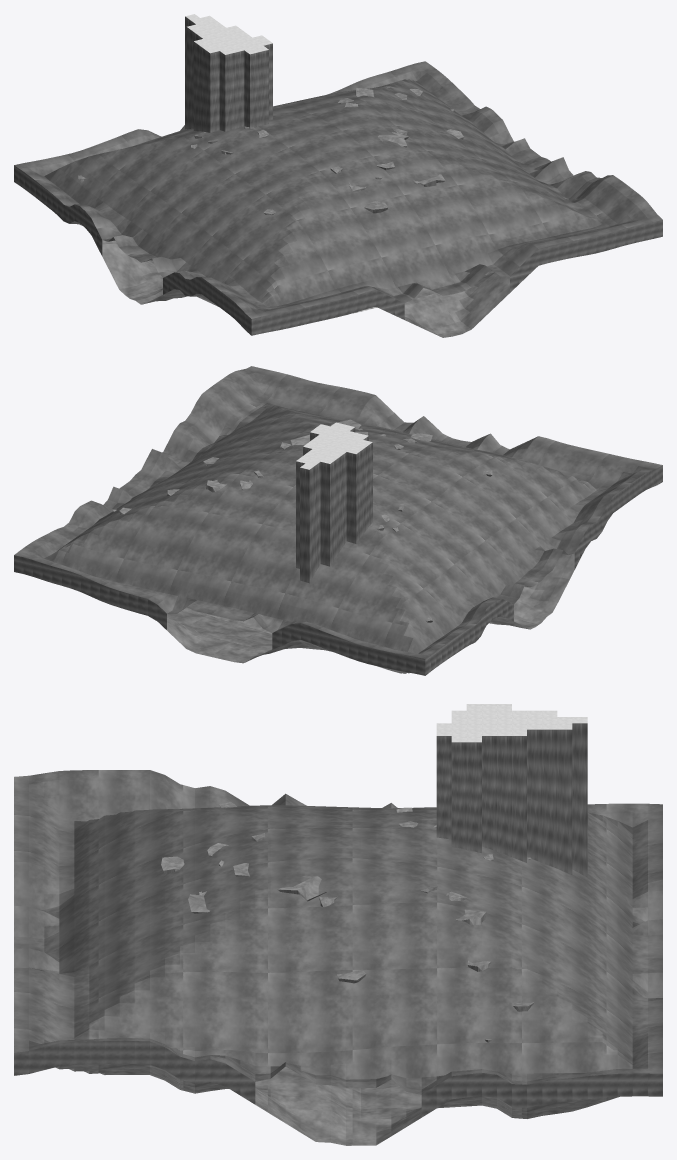
3 views of the same model, one above another, from view 1: azimuth 30°, elevation 25°; view 2: azimuth 150°, elevation 25°; view 3: azimuth 270°, elevation 25° (orthographic). The views are drawn at different scales.
Parts seen in each view (by area): view 1: CavernVault, CavernWalls, CavernShaft, CavernFloor, CavernSkyCap, CavernStalactites, CavernColumns; view 2: CavernVault, CavernWalls, CavernShaft, CavernFloor, CavernSkyCap, CavernStalactites, CavernColumns; view 3: CavernVault, CavernShaft, CavernFloor, CavernWalls, CavernSkyCap, CavernStalactites, CavernColumns.
Part boxes in pixels (x1,y1,x2,y2): CavernVault: (14, 61, 662, 318); CavernWalls: (14, 165, 662, 335); CavernShaft: (185, 16, 272, 132); CavernFloor: (69, 221, 509, 337); CavernSkyCap: (185, 14, 272, 54); CavernStalactites: (78, 89, 463, 215); CavernColumns: (355, 88, 445, 213); CavernVault: (14, 366, 662, 658); CavernWalls: (14, 465, 662, 675); CavernShaft: (296, 427, 372, 583); CavernFloor: (167, 553, 574, 673); CavernSkyCap: (296, 422, 372, 469); CavernStalactites: (113, 428, 492, 622); CavernColumns: (206, 419, 432, 492); CavernVault: (14, 770, 662, 1094); CavernShaft: (436, 723, 587, 877); CavernFloor: (55, 1064, 619, 1145); CavernWalls: (14, 1041, 662, 1117); CavernSkyCap: (436, 704, 587, 742); CavernStalactites: (199, 802, 534, 1042); CavernColumns: (161, 856, 486, 925).
Size of the model in its own units: 92 by 43.04 by 92.
6 materials, 6 textured.
